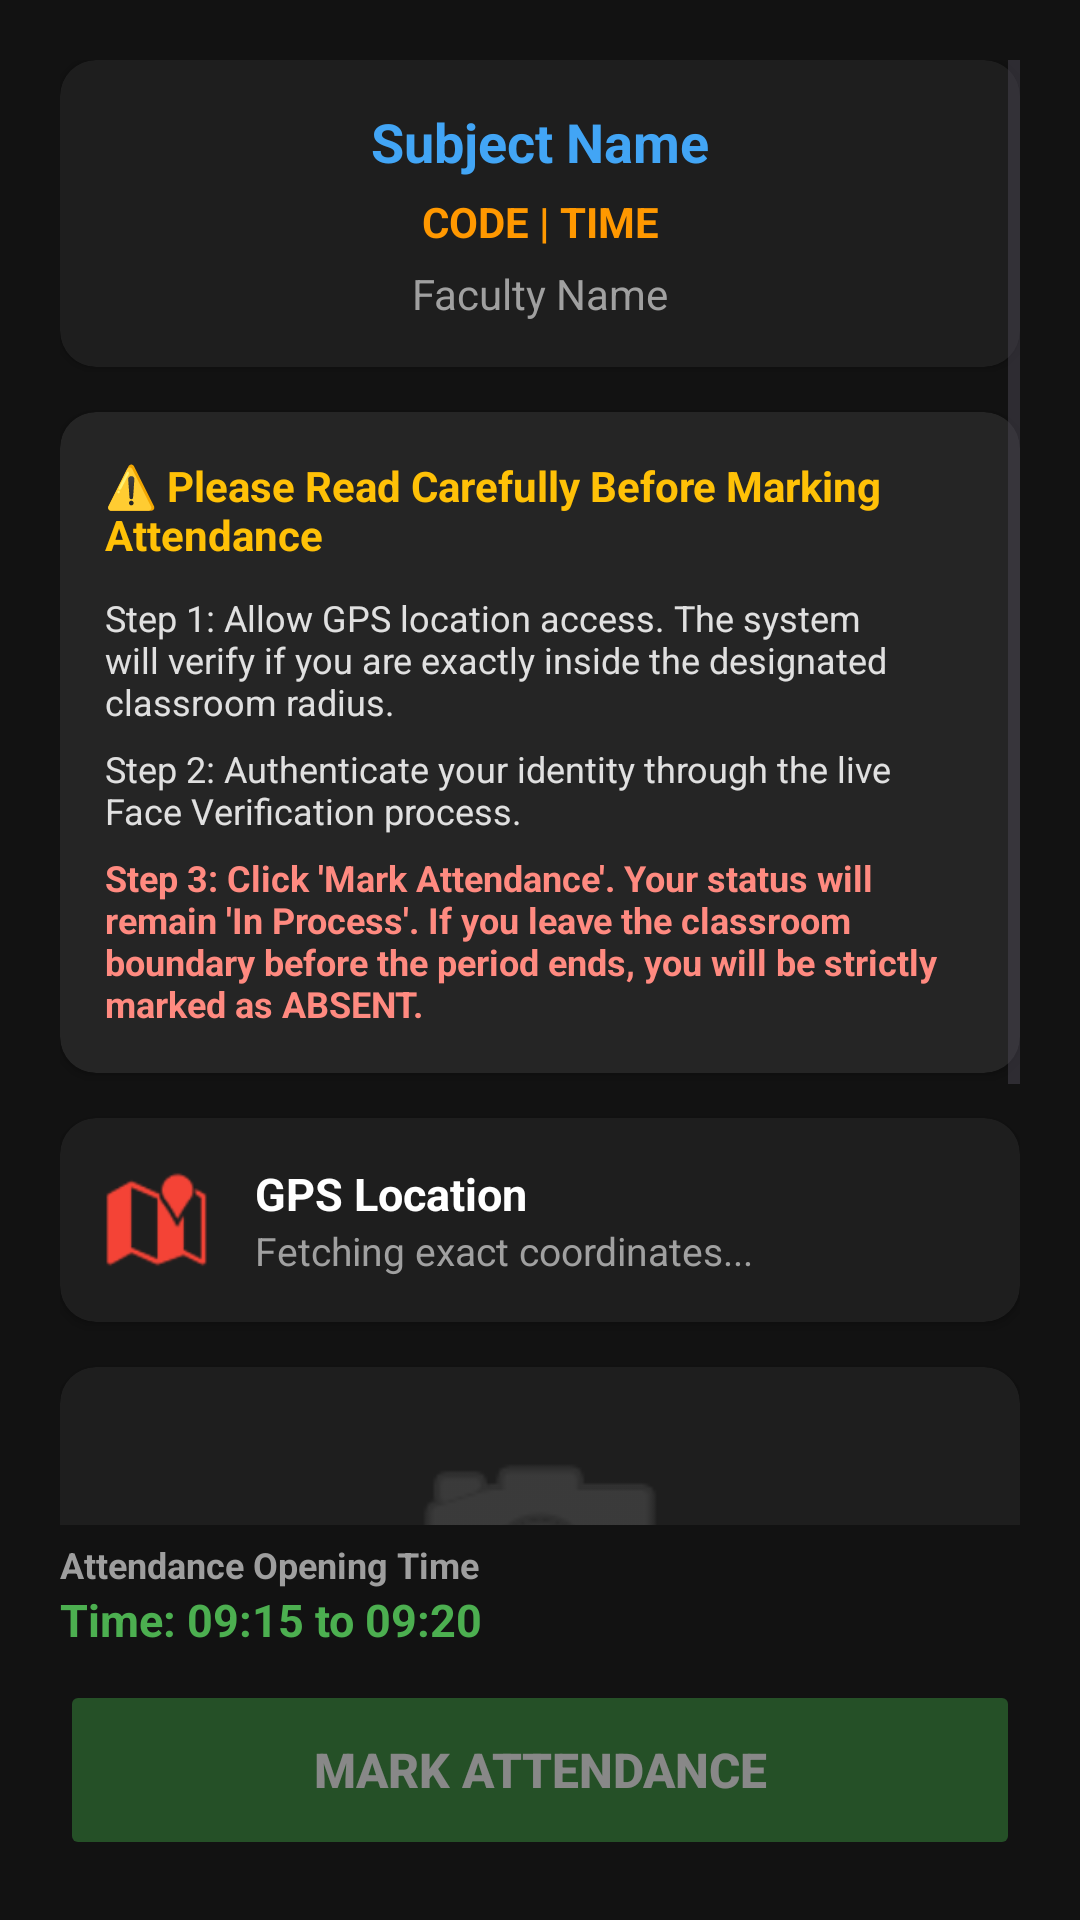

Icon bounding boxes for this 1080 × 1920 phone screenshot, format (x1=x1, y1=y1, x2=x2, y2=y2):
map: (x1=106, y1=1173, x2=207, y2=1266)
